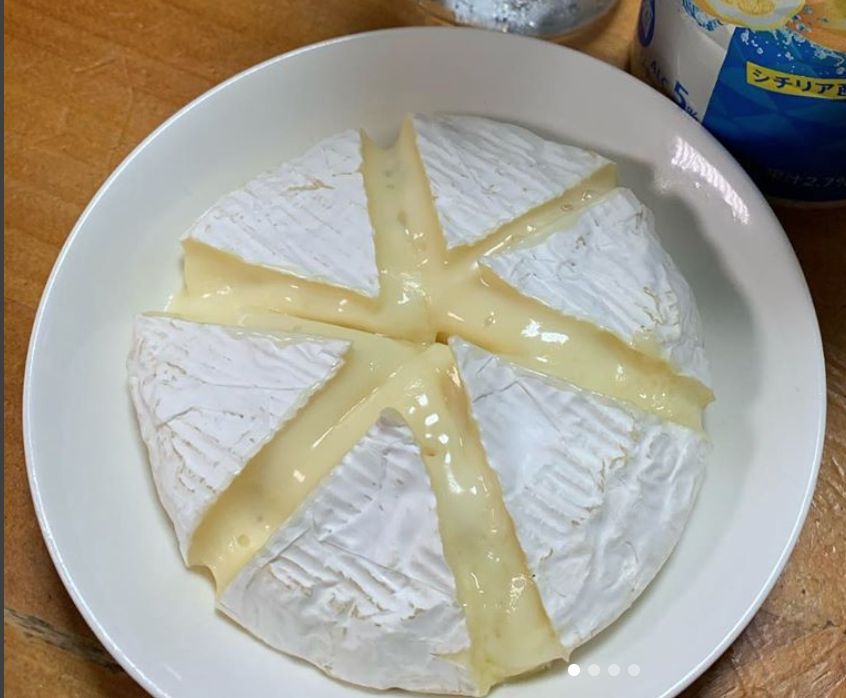camembert: (125, 109, 716, 698)
